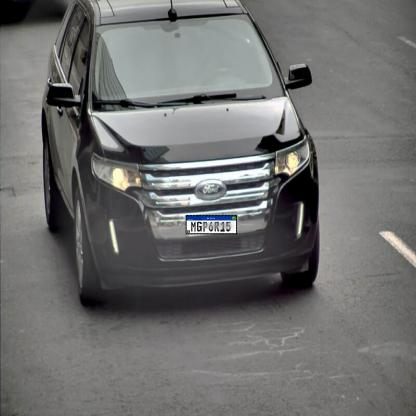PlacaM: (186, 215, 237, 234)
